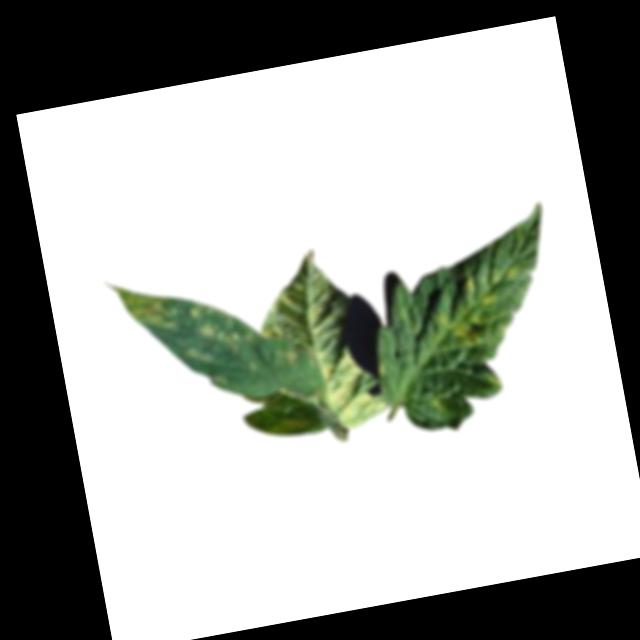Leaf_Mold: (316, 339, 388, 433), (116, 279, 180, 336), (461, 263, 524, 309), (198, 318, 258, 356), (439, 306, 486, 352), (186, 301, 218, 323), (276, 346, 305, 370)
